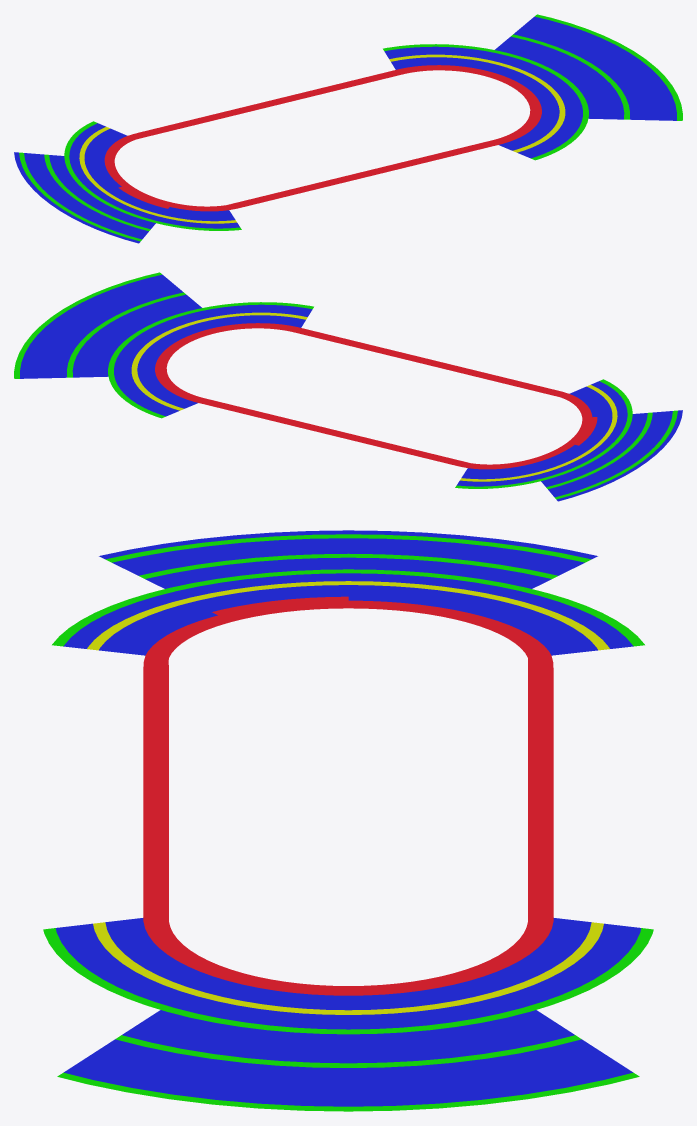
The model's file is radar_wall.fbx.
3 views of the same model, one above another, from view 1: azimuth 30°, elevation 25°; view 2: azimuth 150°, elevation 25°; view 3: azimuth 270°, elevation 25° (orthographic). The views are drawn at different scales.
Parts seen in each view (by area): view 1: 5001, 6002, 5002, 6001, 11002, 12002, 12001, 11001, 8025, 8026, 8024, 8023 (+13 smaller); view 2: 5001, 5002, 6002, 6001, 12002, 11002, 12001, 11001, 7025, 7026, 7024, 7023 (+13 smaller); view 3: 5001, 6002, 5002, 6001, 7026, 8026, 11002, 12002, 7025, 8025, 11001, 12001 (+88 smaller).
Part boxes in pixels (<box>): 5001: <box>228,174,367,209</box>; 6002: <box>128,102,267,137</box>; 5002: <box>226,172,364,207</box>; 6001: <box>132,104,270,139</box>; 11002: <box>365,143,497,176</box>; 12002: <box>265,70,397,103</box>; 12001: <box>268,72,398,106</box>; 11001: <box>362,141,492,174</box>; 8025: <box>532,16,640,61</box>; 8026: <box>535,14,644,59</box>; 8024: <box>529,19,635,62</box>; 8023: <box>527,21,630,63</box>; 5001: <box>429,359,568,395</box>; 5002: <box>425,362,564,397</box>; 6002: <box>330,432,468,467</box>; 6001: <box>333,430,470,465</box>; 12002: <box>199,401,332,434</box>; 11002: <box>299,328,430,361</box>; 12001: <box>204,399,335,432</box>; 11001: <box>298,330,427,364</box>; 7025: <box>56,274,164,319</box>; 7026: <box>52,272,161,317</box>; 7024: <box>61,277,167,320</box>; 7023: <box>66,279,169,321</box>; 5001: <box>143,655,156,790</box>; 6002: <box>540,655,553,789</box>; 5002: <box>156,657,168,790</box>; 6001: <box>528,657,540,789</box>; 7026: <box>57,1072,348,1111</box>; 8026: <box>348,1072,639,1111</box>; 11002: <box>143,790,155,917</box>; 12002: <box>541,790,553,917</box>; 7025: <box>64,1068,348,1106</box>; 8025: <box>348,1068,632,1106</box>; 11001: <box>156,790,168,916</box>; 12001: <box>528,790,540,916</box>.
Size of the model in its own units: 1959 by 6.57e-05 by 870.
